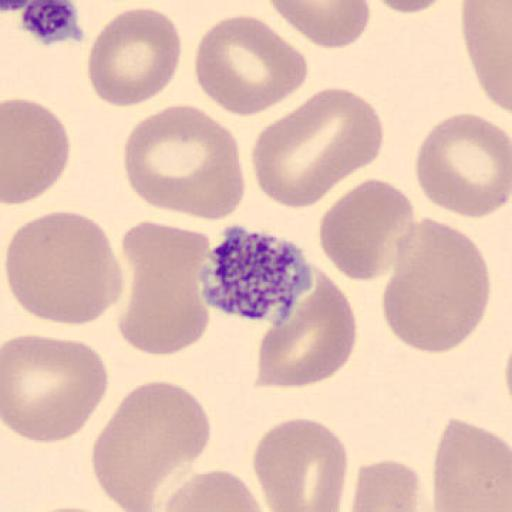Platelet: (196, 223, 316, 323), (18, 0, 87, 47)
RBC: (250, 86, 387, 210), (90, 379, 213, 512), (380, 216, 492, 355), (122, 102, 246, 222), (4, 209, 125, 327), (115, 217, 211, 358), (192, 14, 310, 117), (255, 271, 358, 389), (2, 334, 110, 445), (415, 112, 511, 222), (319, 176, 418, 282), (87, 6, 183, 108), (253, 416, 349, 512), (432, 417, 512, 512), (2, 97, 71, 205), (461, 1, 512, 115), (267, 0, 372, 49), (162, 468, 266, 512), (350, 457, 421, 512), (370, 0, 448, 14), (503, 334, 512, 420), (32, 503, 110, 512)
